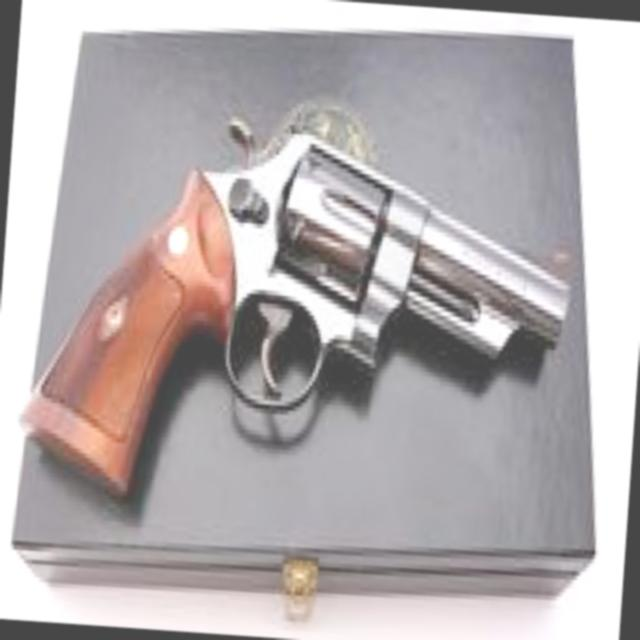revolver: (4, 64, 602, 545)
